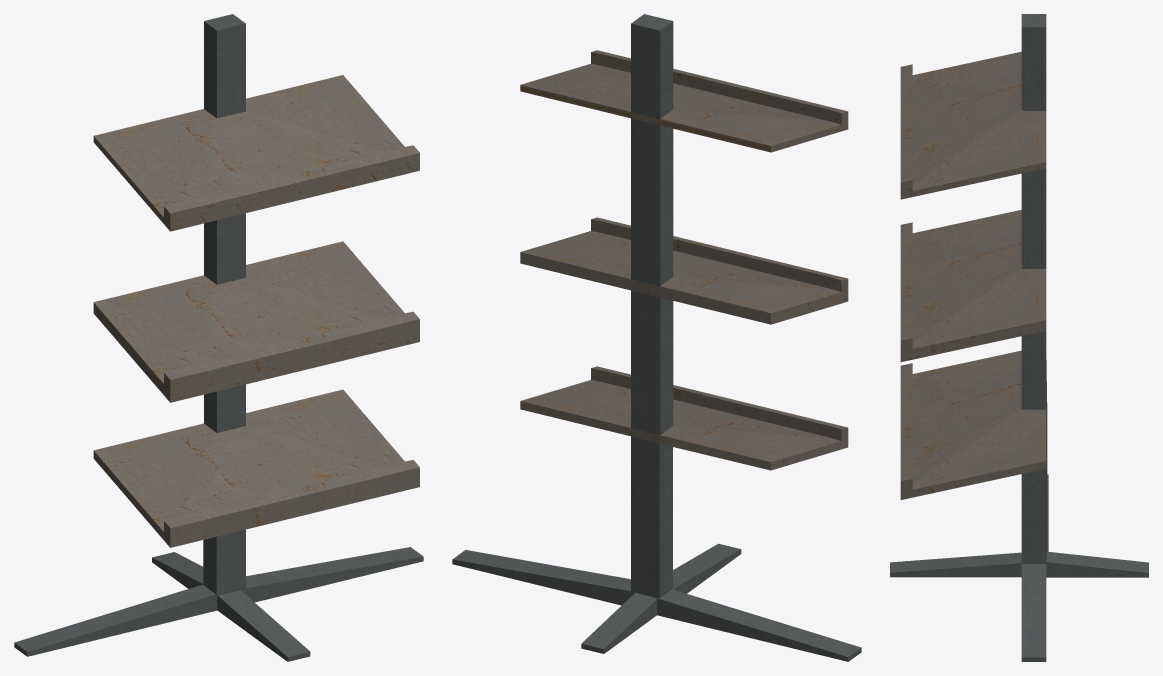
The model's file is SM_Newspaper_Shelf.fbx.
3 renders of one model, left to right at view 1: azimuth 30°, elevation 25°; view 2: azimuth 150°, elevation 25°; view 3: azimuth 270°, elevation 25°, orthographic. The views are drawn at different scales.
Visible parts, largest first — view 1: SM_Newspaper; view 2: SM_Newspaper; view 3: SM_Newspaper.
Boxes of the visible parts, left/top/right/bottom form: SM_Newspaper: left=14, top=14, right=423, bottom=661; SM_Newspaper: left=452, top=14, right=861, bottom=661; SM_Newspaper: left=890, top=14, right=1148, bottom=661.
Size of the model in its own units: 121 by 170 by 72.03.
2 materials, 2 textured.
